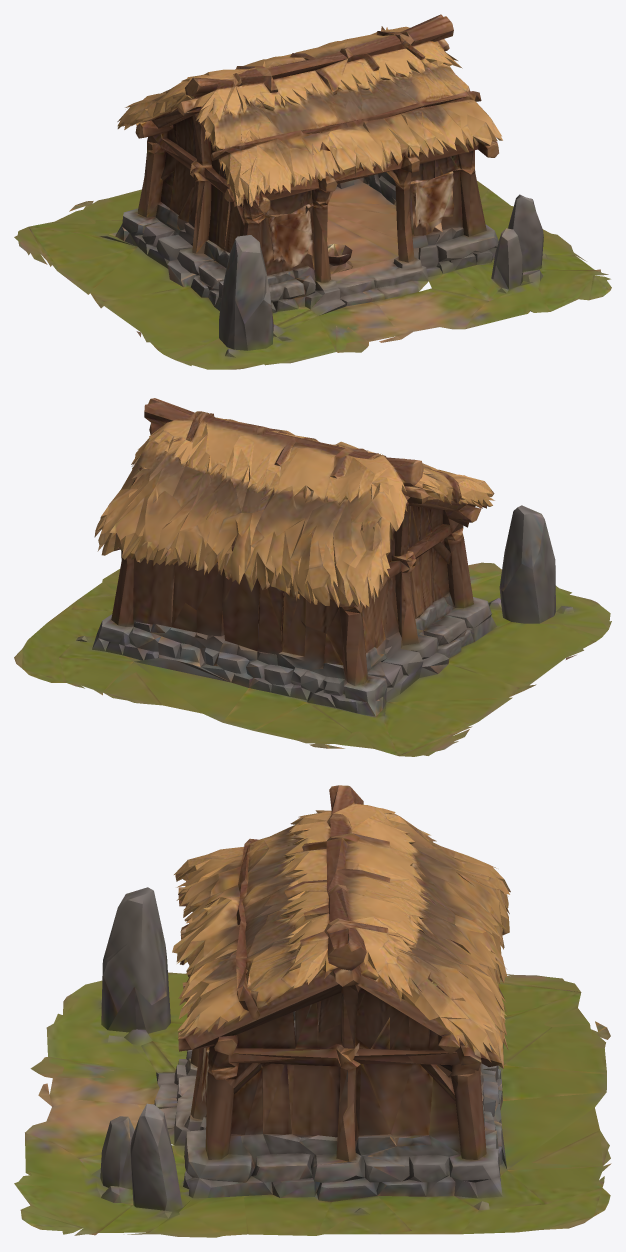
Rendered from temple.glb.
The picture shows the model from 3 angles, top to bottom: view 1: azimuth 30°, elevation 25°; view 2: azimuth 150°, elevation 25°; view 3: azimuth 270°, elevation 25°; orthographic projection. The views are drawn at different scales.
Size of the model in its own units: 1.9 by 0.8532 by 1.81.
Materials: 1 (1 with a texture image).
